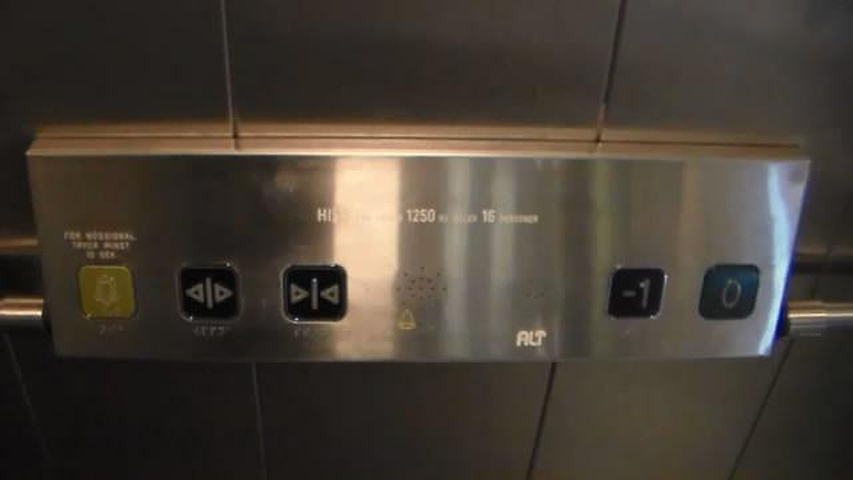-1: (602, 265, 667, 322)
0: (695, 262, 761, 321)
alarm: (78, 265, 133, 318)
close: (280, 263, 348, 322)
open: (175, 263, 242, 322)
